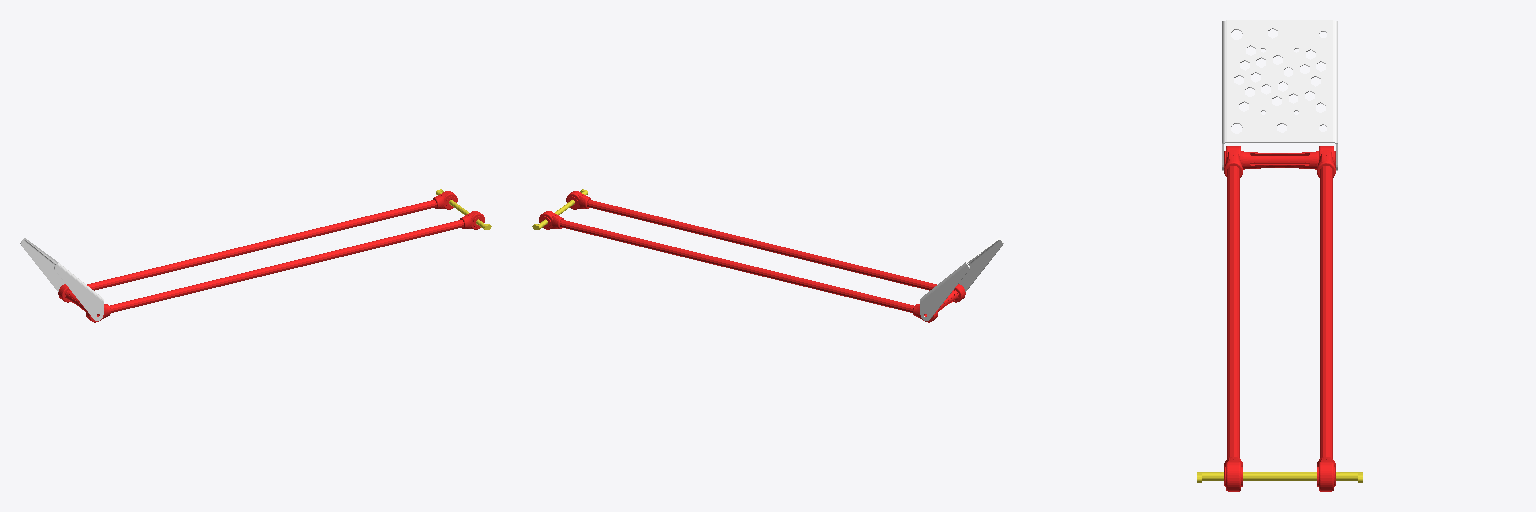
URDF robot description (delta_robot):
<?xml version="1.0"?>
<robot name="delta_robot">

    <!-- RAILS -->
    <link name="rails_link">

        <visual>
            <origin xyz="0 0 0"/>
            <geometry>
                <mesh filename="../meshes/rails.stl"/>
            </geometry>
            <material name="gray">
              <color rgba="0.8 0.8 0.8 1"/>
            </material>
        </visual>
    
    </link>
    <!-- RAILS END-->


    <!-- CARRIAGE 1 -->
    <link name="carriage_1_link">

        <visual>
            <origin xyz="0. 0. 0."/>
            <geometry>
                <mesh filename="../meshes/carriage_1.stl"/>
            </geometry>
            <material name="white">
              <color rgba="1. 1. 1. 1."/>
            </material>
        </visual>

    </link>

    <joint name="carriage_1_joint" type="prismatic">
        <origin xyz="0. 0. 0." rpy="0 0 0"/>
        <parent link="rails_link"/>
        <child link="carriage_1_link"/>
        <axis xyz="-1 0 1"/>
        <limit lower="60" upper="350" velocity="0" effort="0"/> 
    </joint>
    <!-- CARRIAGE 1 END-->

    <!-- ROD 1 -->
    <link name="rod_1_link">

        <visual>
            <origin xyz="0 0 0" rpy="0 0 0"/>
            <geometry>
                <mesh filename="../meshes/link_1.stl"/>
            </geometry>
            <material name="red">
              <color rgba="1. 0.2 0.2 1."/>
            </material>
        </visual>

    </link>

    <joint name="rod_1_joint" type="revolute">
        <origin xyz="0. 0. 0." rpy="0 0 0"/>
        <parent link="carriage_1_link"/>
        <child link="rod_1_link"/>
        <axis xyz="0 1 0"/>
        <limit lower="0" upper="6.28" velocity="0" effort="0"/> 
    </joint>

    <link name="rod_1_end-effector_link">
        <visual>
            <origin xyz="0 0 0" rpy="0 0 0"/>
            <geometry>
                <mesh filename="../meshes/end-effector_joint.stl"/>
            </geometry>
        </visual>
    
    </link>

    <joint name="rod_1_end-effector_joint" type="fixed">
        <origin xyz="450 0 0"/>
        <parent link="rod_1_link"/>
        <child link="rod_1_end-effector_link"/>
    </joint>
    <!-- ROD 1 END-->

</robot>

--- What the picture shows (computed from the rendered views, not written in the file) ---
3 views of the same robot in one strip: view 1: azimuth 30°, elevation 25°; view 2: azimuth 150°, elevation 25°; view 3: azimuth 270°, elevation 25° (orthographic).
Robot: delta_robot — 4 links, 3 joints (1 revolute, 1 prismatic, 1 fixed); root link rails_link; default pose: joints at zero except 1 at the middle of their limits (carriage_1_joint = 205).
Links seen in each view (by area): view 1: rod_1_link, carriage_1_link; view 2: rod_1_link, carriage_1_link; view 3: carriage_1_link, rod_1_link, rod_1_end-effector_link.
Link boxes in pixels (<box>): rod_1_link: <box>58,191,484,322</box>; carriage_1_link: <box>20,238,103,320</box>; rod_1_link: <box>539,191,965,322</box>; carriage_1_link: <box>920,238,1003,320</box>; carriage_1_link: <box>1222,20,1337,170</box>; rod_1_link: <box>1224,146,1335,491</box>; rod_1_end-effector_link: <box>1197,472,1362,482</box>.
Bounding box of the posed robot: 511 × 100 × 80.07 m (x, y, z).
Meshes: 4 distinct files referenced, 3 mesh visuals loaded (3 binary STL); not drawn: 1 (reference not matched to a file when rendering).
